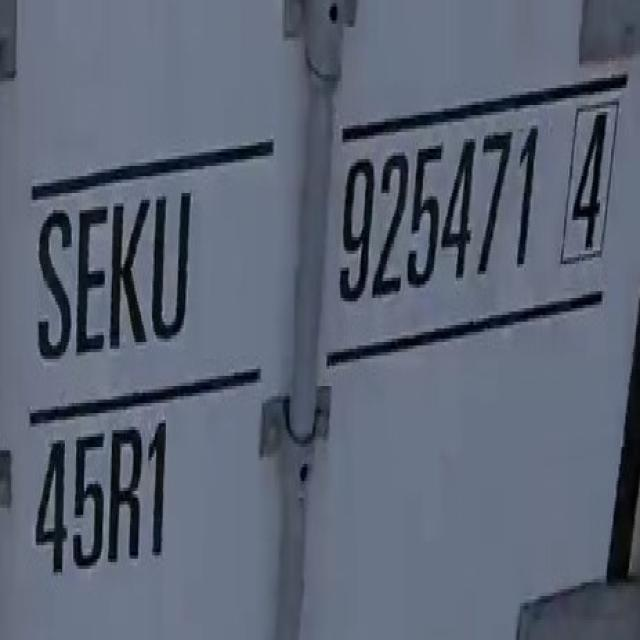dv: (559, 97, 616, 284)
owner: (30, 186, 202, 374)
serial: (340, 114, 542, 321)
size: (25, 397, 178, 585)
